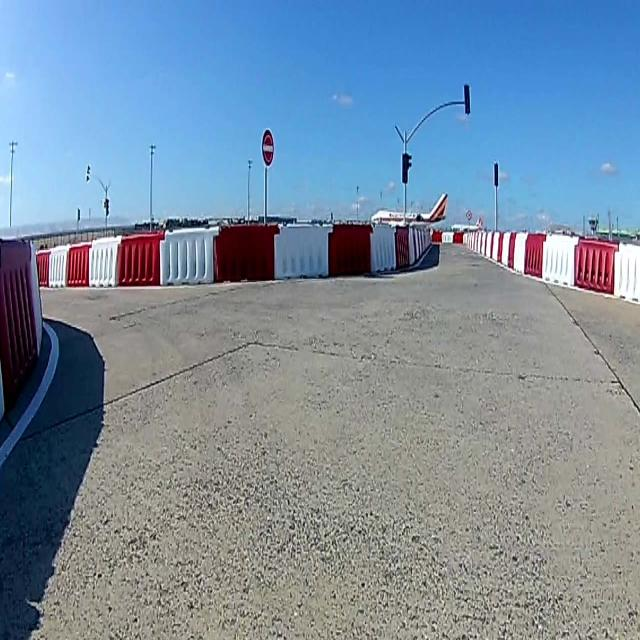girisyok: (260, 129, 275, 168)
